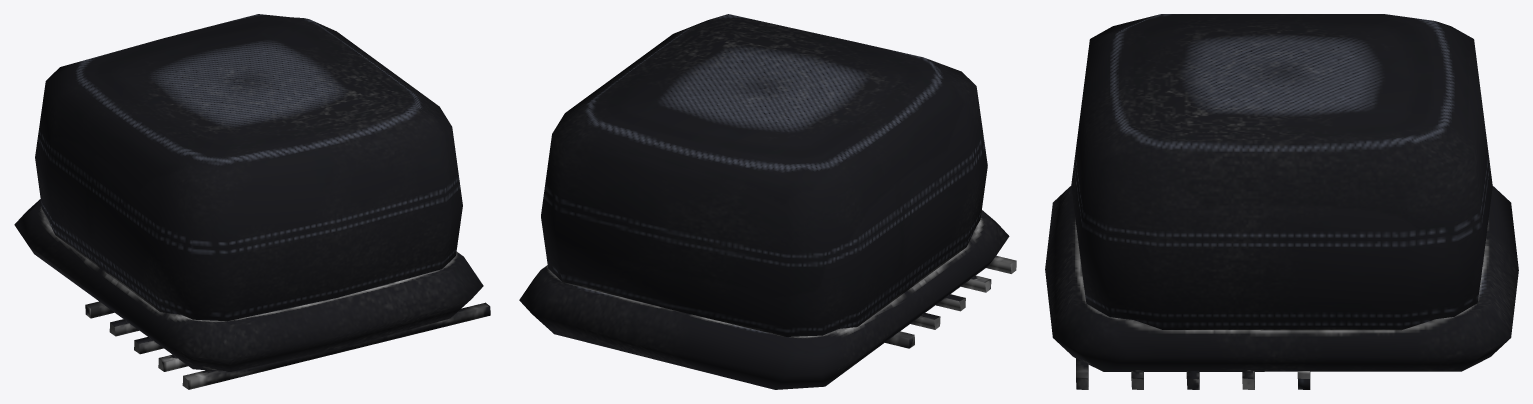
File: MatonImp_BotaDer.fbx
3 renders of one model, left to right at view 1: azimuth 30°, elevation 25°; view 2: azimuth 150°, elevation 25°; view 3: azimuth 270°, elevation 25°, orthographic. The views are drawn at different scales.
Visible parts, largest first — view 1: MatonImp_BotaDer; view 2: MatonImp_BotaDer; view 3: MatonImp_BotaDer.
Boxes of the visible parts, bbox=[...] form: MatonImp_BotaDer: bbox=[14, 14, 490, 389]; MatonImp_BotaDer: bbox=[519, 14, 1016, 389]; MatonImp_BotaDer: bbox=[1045, 14, 1518, 389].
Bounding box in the file's own units: 1.31 × 0.8325 × 1.53.
